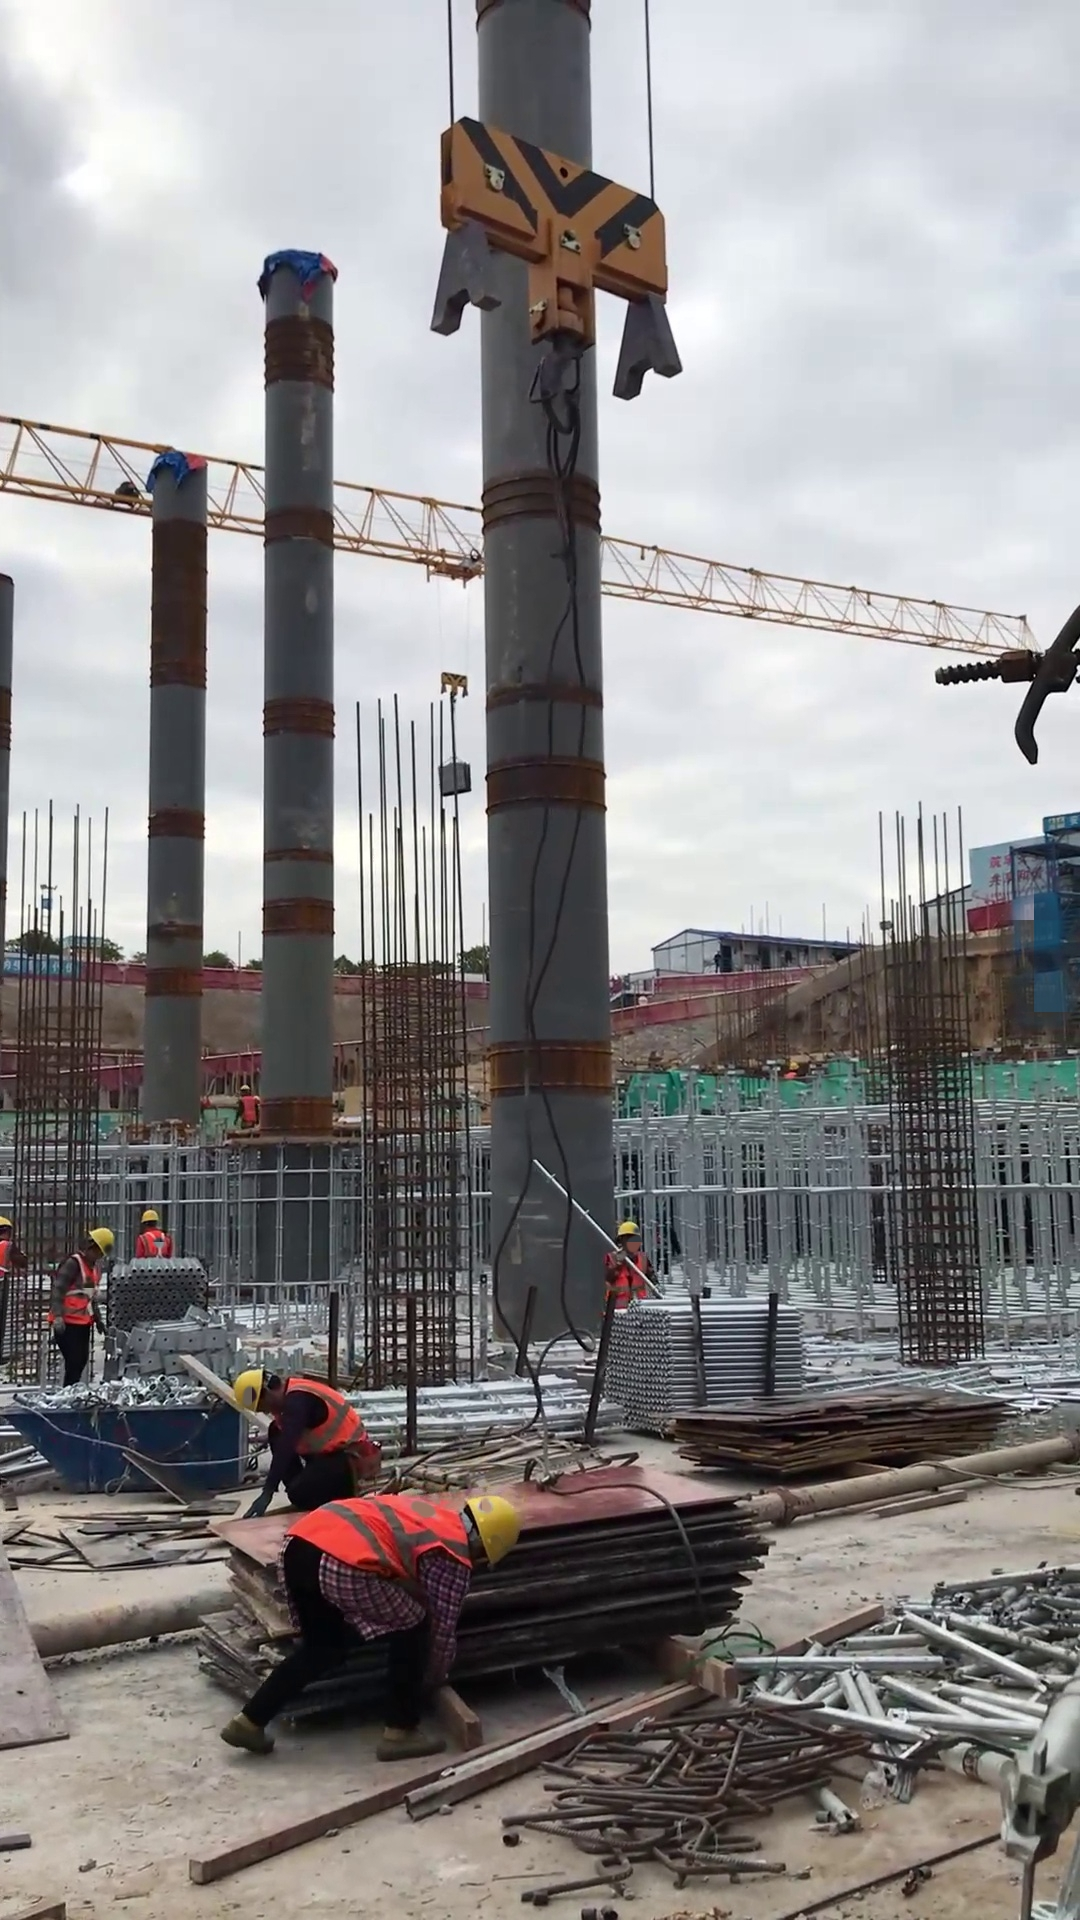board: (196, 1468, 770, 1728), (672, 1385, 1009, 1475)
helmet: (458, 1494, 523, 1570), (232, 1365, 265, 1416), (87, 1225, 116, 1261), (614, 1220, 640, 1240), (139, 1208, 160, 1225), (1, 1216, 13, 1233), (787, 1059, 802, 1072), (238, 1083, 252, 1093)
hook: (427, 112, 685, 437), (438, 670, 470, 707)
hopper: (1, 1400, 253, 1497)
person: (215, 1488, 524, 1762), (231, 1365, 382, 1519), (44, 1225, 118, 1390), (601, 1219, 663, 1311), (1, 1214, 31, 1368), (132, 1207, 173, 1260), (232, 1083, 265, 1131)
scaffold: (599, 1294, 809, 1435), (347, 1372, 620, 1457), (104, 1251, 211, 1332)
slogan: (981, 810, 1080, 889), (1, 954, 81, 982)
vest: (282, 1490, 475, 1577), (277, 1374, 372, 1456), (45, 1249, 100, 1326), (602, 1247, 650, 1310), (140, 1228, 171, 1259), (237, 1094, 261, 1125), (1, 1236, 16, 1280)
